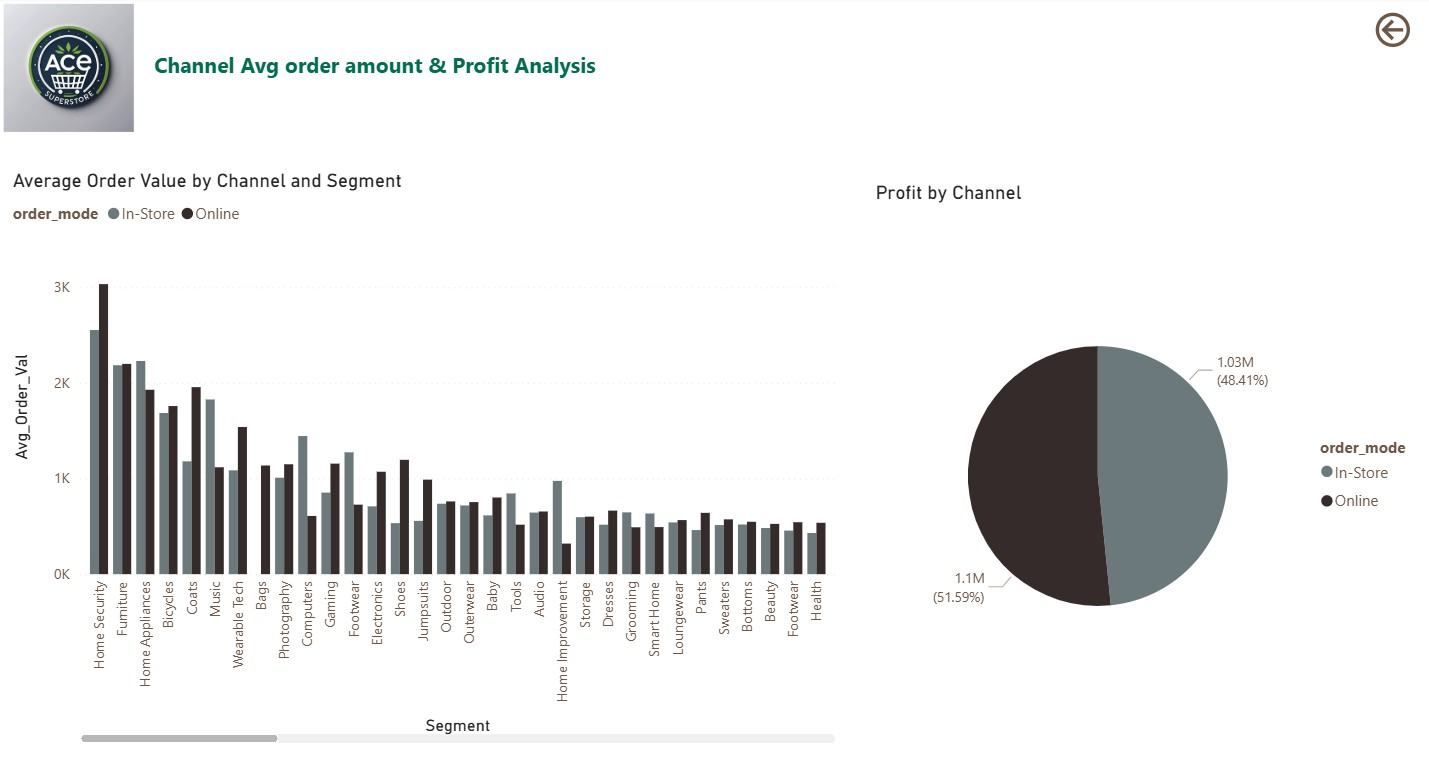

This screenshot's page, from the dashboard's own definition file:
{"tool":"powerbi","page":{"name":"Channel Analysis","canvas":[1280,720],"ordinal":5},"visuals":[{"type":"lineClusteredColumnComboChart","title":"Average Order Value by Channel and Segment ","fields":{"Category":["rdamp avg_order_val_channel_segment.segment"],"Y":["Avg(rdamp avg_order_val_channel_segment.avg_order_value)"],"Series":["rdamp avg_order_val_channel_segment.order_mode"]},"box":[7.9,151.8,735.5,511.7],"z":0},{"type":"image","box":[0,0,125,125],"z":1000},{"type":"textbox","box":[117.9,8.1,652.1,108.9],"z":2000},{"type":"actionButton","box":[1210.5,9.1,54.4,40.3],"z":3000},{"type":"pieChart","title":"Profit by Channel","fields":{"Category":["rdamp channel_margin_report.order_mode"],"Y":["Sum(rdamp channel_margin_report.Profit)"]},"box":[769.6,162,495.9,501.5],"z":4000}]}

Visuals, with their boxes in screenshot pixels (x1, y1, x2, y2), scaled from the page's 1280x720 canvas onto the 1429x782 screenshot:
"Average Order Value by Channel and Segment " lineClusteredColumnComboChart: pyautogui.locateOnScreen(9, 165, 830, 721)
image: pyautogui.locateOnScreen(0, 0, 140, 136)
textbox: pyautogui.locateOnScreen(132, 9, 860, 127)
actionButton: pyautogui.locateOnScreen(1351, 10, 1412, 54)
"Profit by Channel" pieChart: pyautogui.locateOnScreen(859, 176, 1413, 721)
